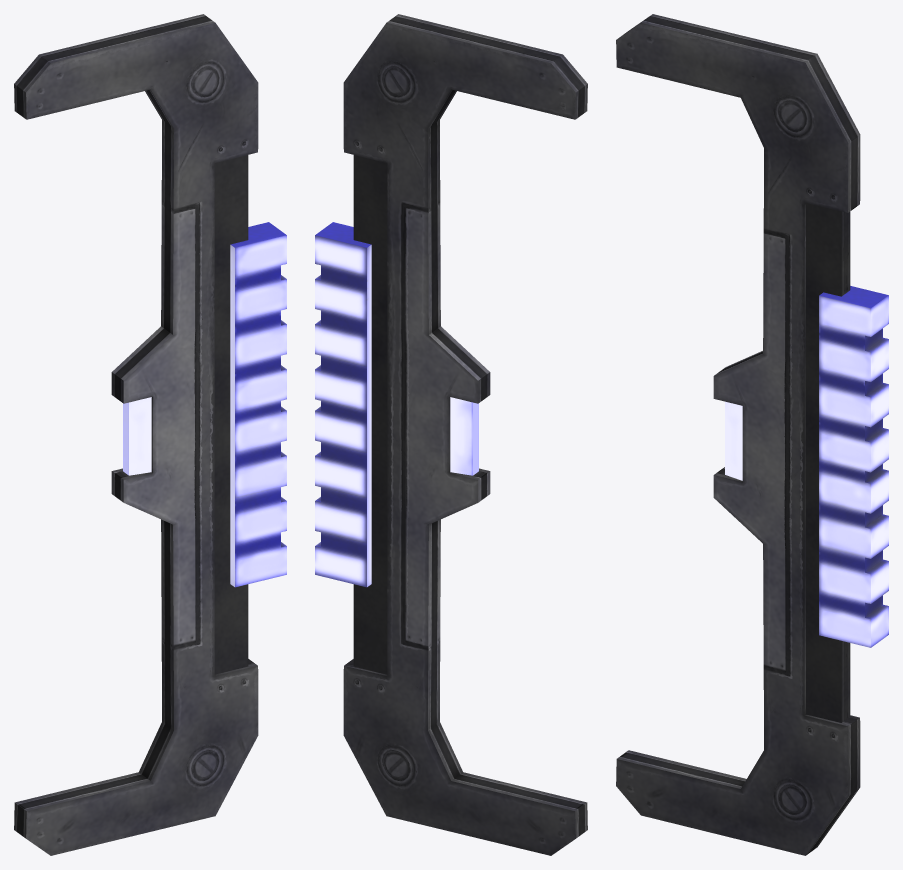
Rendered from Sign.fbx.
The picture shows the model from 3 angles, left to right: view 1: azimuth 30°, elevation 25°; view 2: azimuth 150°, elevation 25°; view 3: azimuth 330°, elevation 25°; orthographic projection.
Visible parts, largest first — view 1: BlueSign; view 2: BlueSign; view 3: BlueSign.
Part boxes in pixels (left/top/right/bottom): BlueSign: left=14, top=14, right=286, bottom=855; BlueSign: left=315, top=14, right=587, bottom=855; BlueSign: left=616, top=14, right=888, bottom=855.
Bounding box in the file's own units: 112 × 328 × 13.5.
